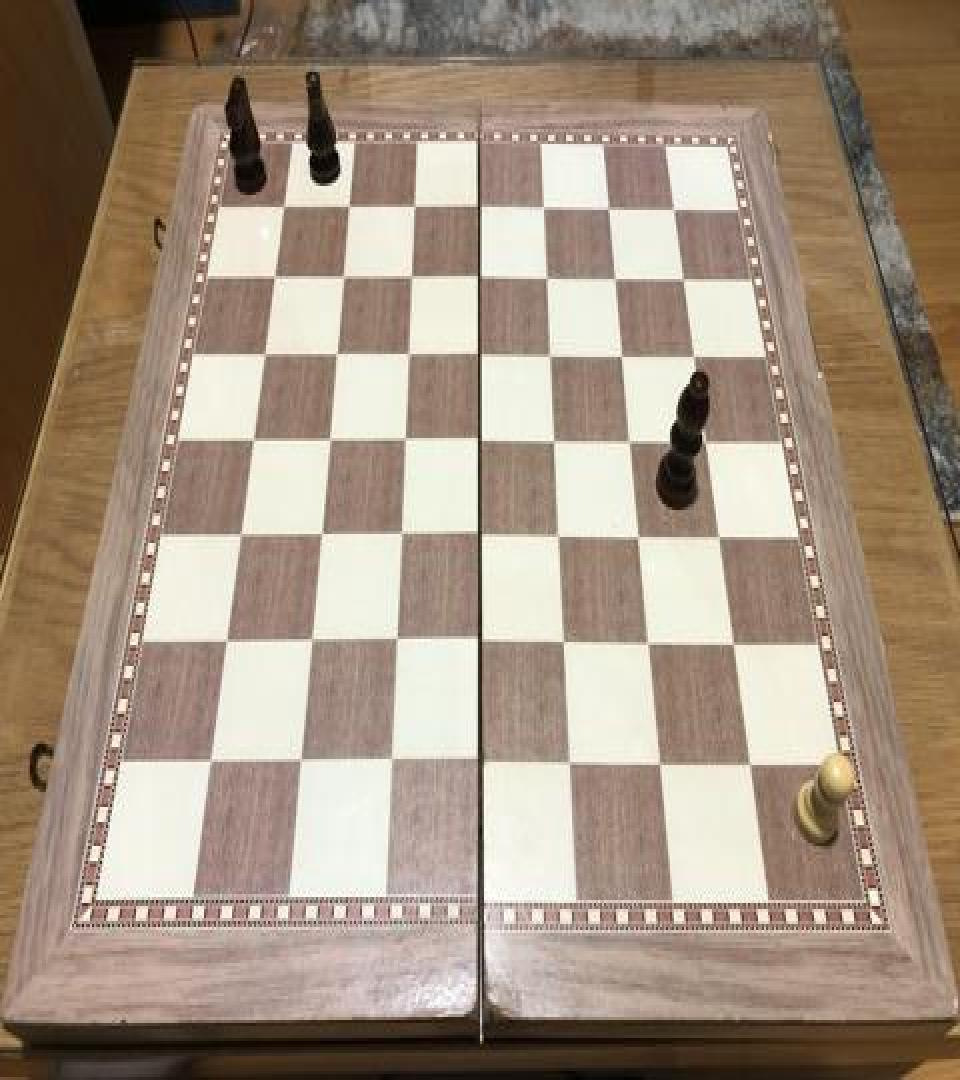xcorner: (709, 520, 733, 557), (629, 520, 653, 557), (549, 520, 573, 557), (469, 625, 493, 662), (384, 625, 408, 662), (299, 625, 323, 662), (215, 625, 239, 662), (664, 192, 688, 228), (599, 192, 623, 228), (534, 192, 558, 228), (469, 192, 493, 228), (404, 192, 428, 228), (339, 192, 363, 228), (274, 192, 298, 228), (674, 262, 698, 298), (605, 262, 629, 298), (537, 262, 561, 298), (469, 262, 493, 298), (401, 262, 425, 298), (333, 262, 357, 298), (265, 262, 289, 298), (684, 339, 708, 375), (612, 339, 636, 375), (541, 339, 565, 375), (469, 339, 493, 375), (397, 339, 421, 375), (326, 339, 350, 375), (254, 339, 278, 375), (696, 424, 720, 460), (620, 424, 644, 460), (544, 424, 568, 460), (469, 424, 493, 460), (393, 424, 417, 460), (318, 424, 342, 460), (242, 424, 266, 460), (469, 519, 493, 555), (389, 519, 413, 555), (309, 519, 333, 555), (230, 519, 254, 555), (723, 627, 747, 663), (638, 627, 662, 663), (553, 627, 577, 663), (739, 747, 763, 783), (649, 747, 673, 783), (559, 747, 583, 783), (468, 747, 492, 783), (378, 746, 402, 782), (288, 746, 312, 782), (199, 746, 223, 782)
